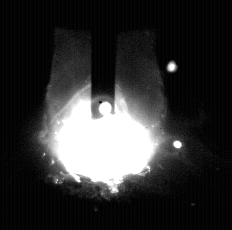arame: (92, 0, 116, 118)
poca: (41, 0, 164, 230)
